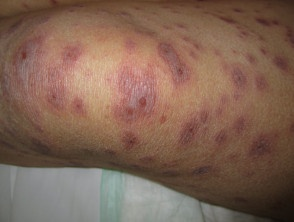SJS-TEN: (99, 7, 294, 197), (0, 29, 98, 146)
